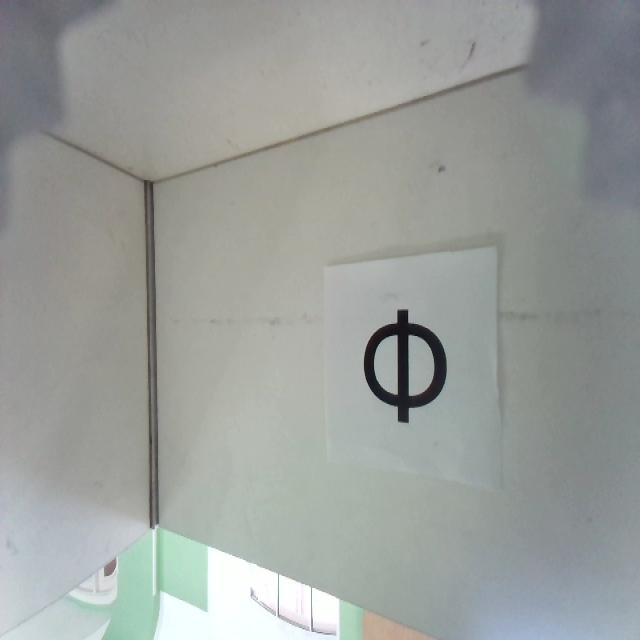F: (362, 308, 448, 422)
